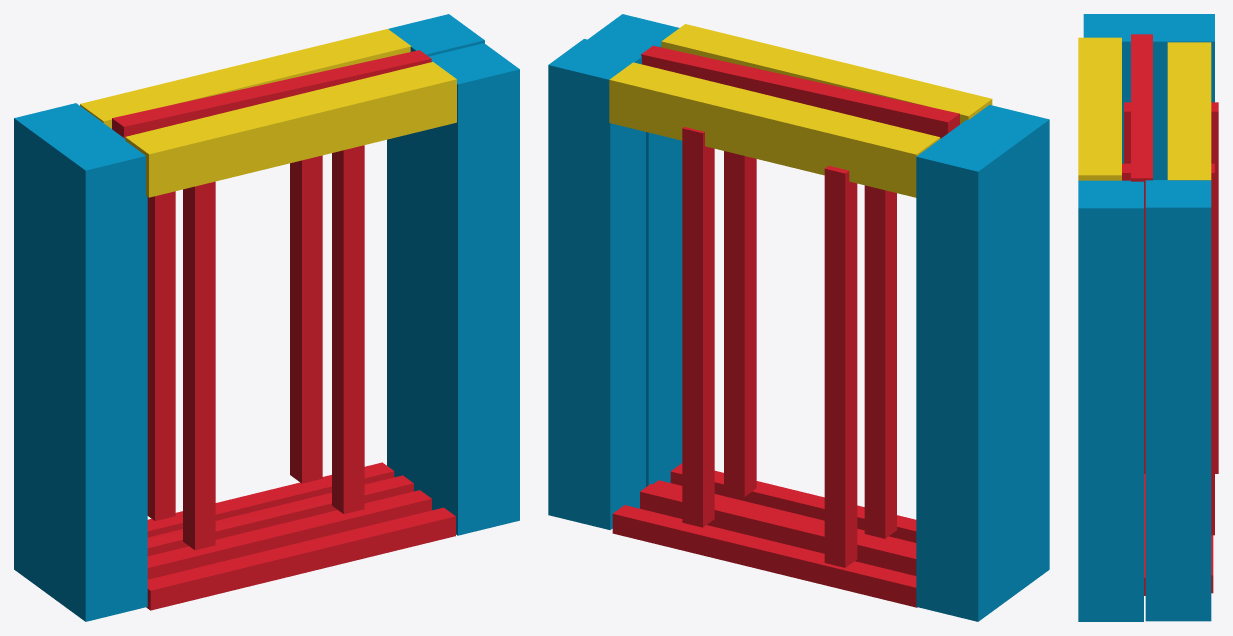
Rendered from tinker.obj.
3 renders of one model, left to right at view 1: azimuth 30°, elevation 25°; view 2: azimuth 150°, elevation 25°; view 3: azimuth 270°, elevation 25°, orthographic. The views are drawn at different scales.
Visible parts, largest first — view 1: group_0_40919, group_0_15277357, group_0_16768282; view 2: group_0_40919, group_0_15277357, group_0_16768282; view 3: group_0_40919, group_0_16768282, group_0_15277357.
Part boxes in pixels (bbox=[...]): group_0_40919: bbox=[14, 14, 519, 621]; group_0_15277357: bbox=[112, 50, 455, 610]; group_0_16768282: bbox=[80, 29, 456, 197]; group_0_40919: bbox=[548, 14, 1049, 621]; group_0_15277357: bbox=[612, 45, 959, 607]; group_0_16768282: bbox=[609, 24, 992, 197]; group_0_40919: bbox=[1078, 14, 1214, 621]; group_0_16768282: bbox=[1078, 37, 1211, 180]; group_0_15277357: bbox=[1122, 34, 1218, 595].
Bounding box in the file's own units: 251 × 257 × 77.
